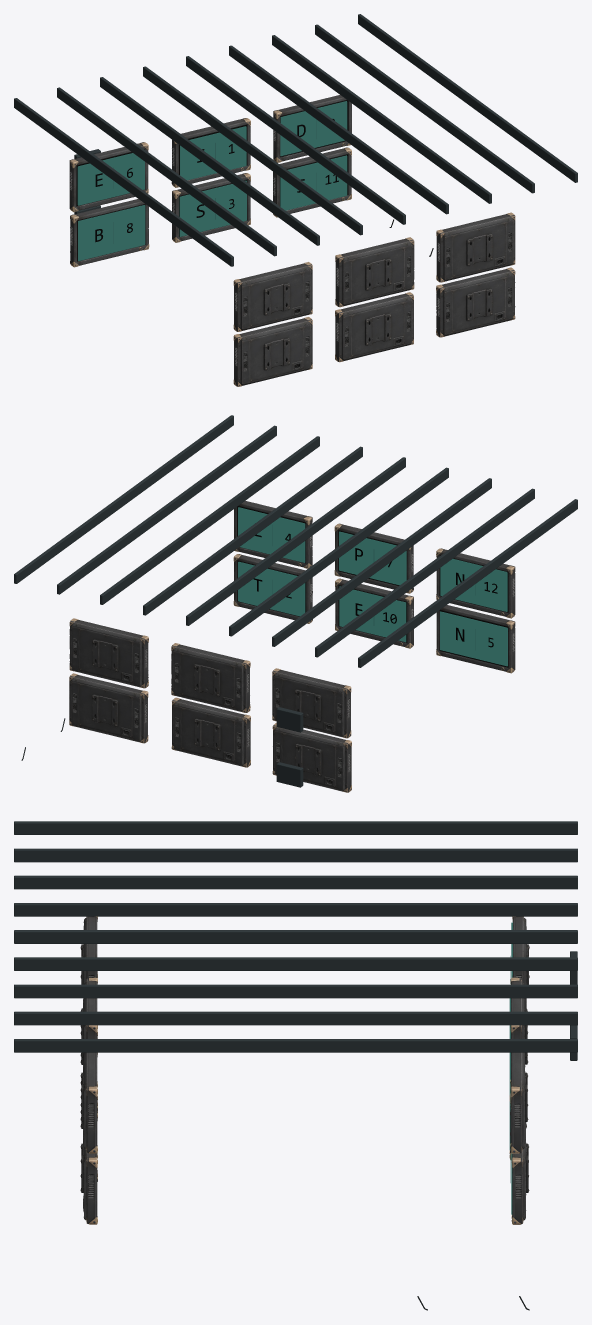
File: SILENT_Room_06_B_Objects.fbx
The picture shows the model from 3 angles, top to bottom: view 1: azimuth 30°, elevation 25°; view 2: azimuth 150°, elevation 25°; view 3: azimuth 270°, elevation 25°; orthographic projection. The views are drawn at different scales.
Parts seen in each view (by area): view 1: Room_06_B_Objects_Merged; view 2: Room_06_B_Objects_Merged; view 3: Room_06_B_Objects_Merged.
Boxes of the visible parts, x1,y1,x2,y2 form: Room_06_B_Objects_Merged: (14,14,577,386); Room_06_B_Objects_Merged: (14,415,577,792); Room_06_B_Objects_Merged: (14,821,577,1310).
Size of the model in its own units: 7.08 by 3.84 by 7.45.
Materials: 17 (12 with a texture image).
